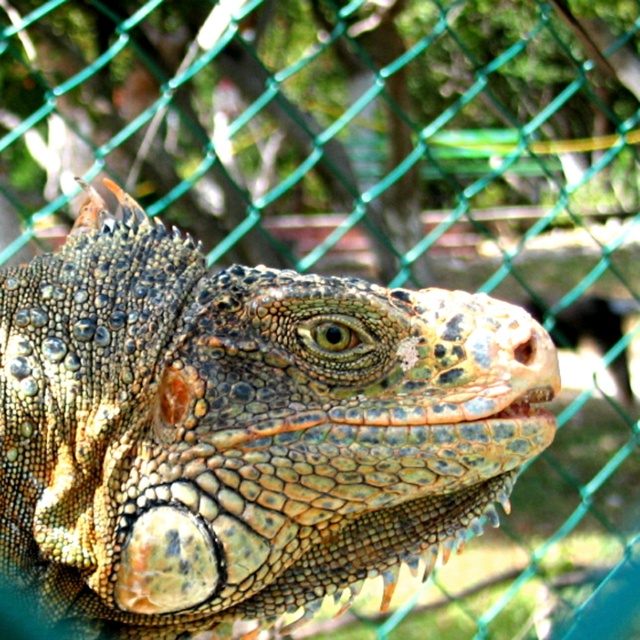Lizard: (0, 166, 574, 640)
